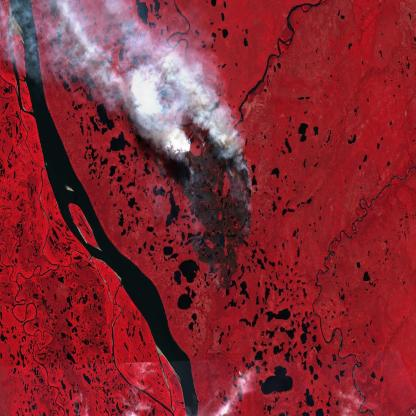fire: (167, 128, 254, 260)
